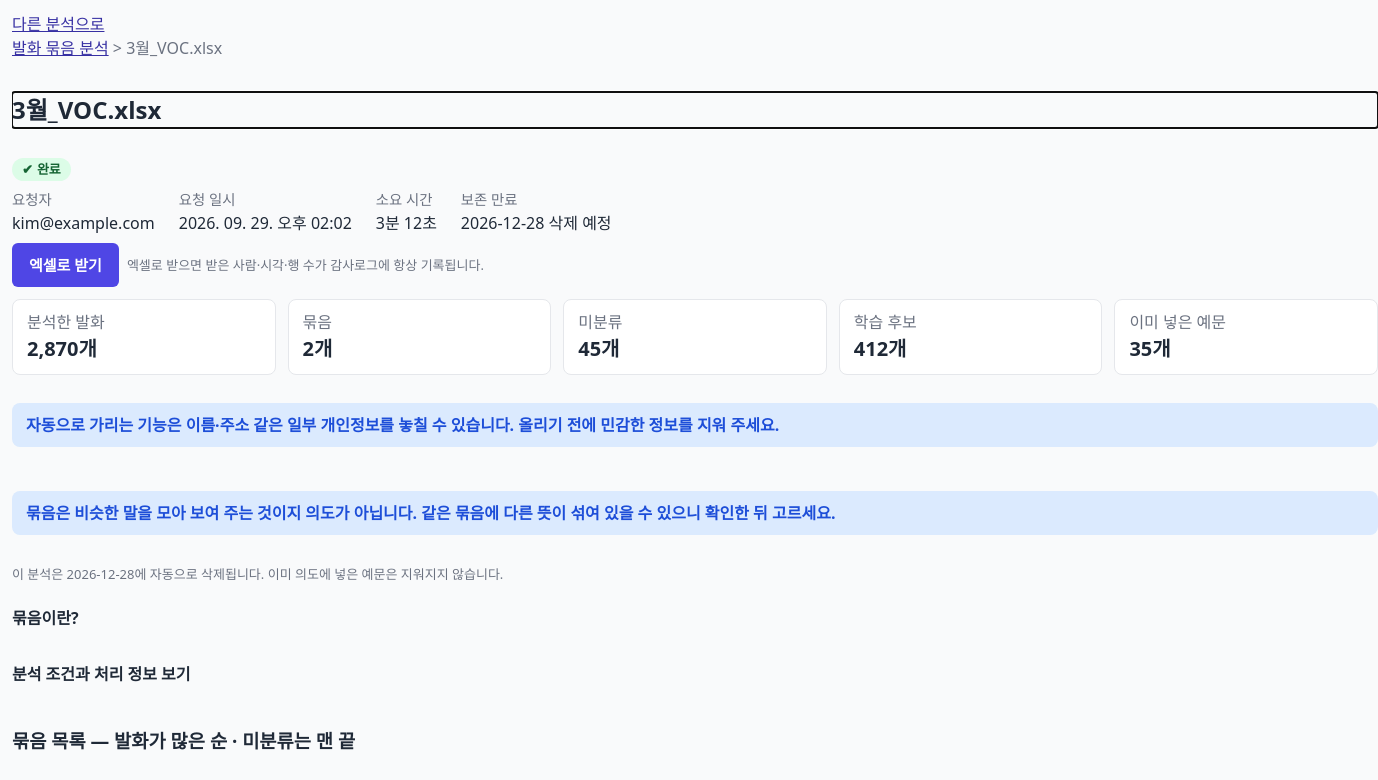
Test: UtteranceAnalysisDetailPage — 완료 상단(§5.4) › 엑셀 받기: 서버 파일 이름으로 저장하고 토스트를 띄운다
The width and height of the screenshot is (1378, 780).
Click the button "엑셀로 받기" at (65, 265), box [12,243,119,287]
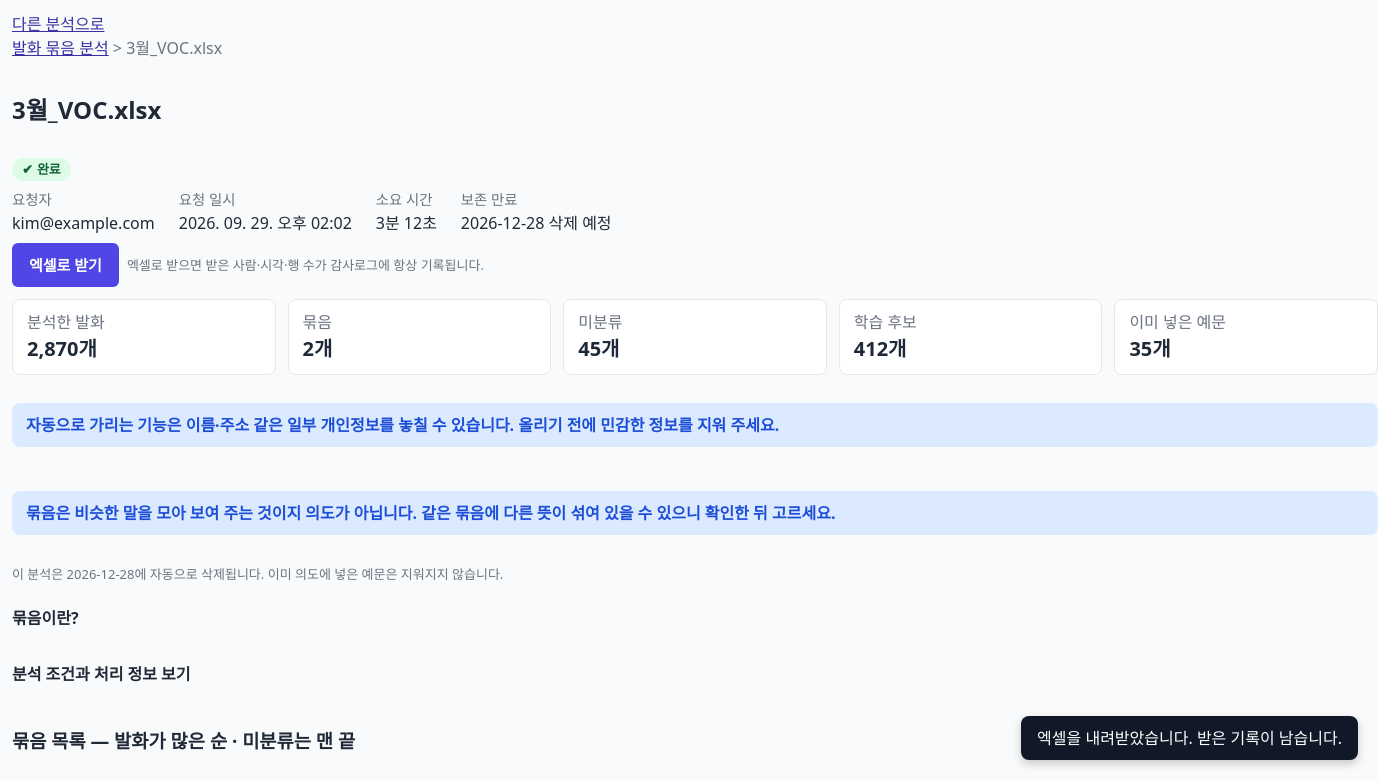
Result: the text "엑셀을 내려받았습니다. 받은 기록이 남습니다." is shown at [1021,716,1358,760]
